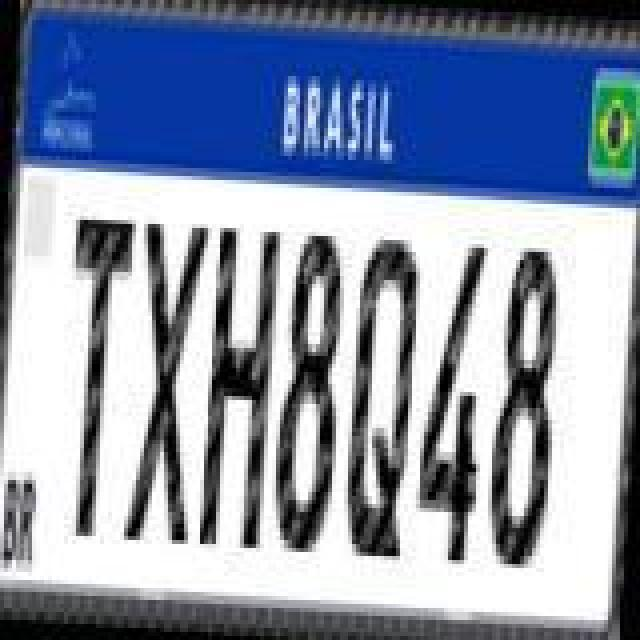4: (414, 234, 498, 566)
8: (268, 224, 356, 560), (480, 238, 568, 570)
H: (196, 222, 284, 554)
Q: (342, 234, 426, 566)
T: (54, 210, 138, 542)
X: (124, 214, 212, 546)
